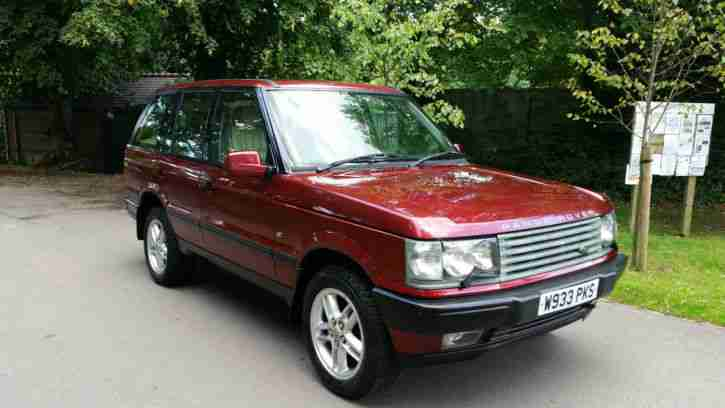car: (118, 69, 633, 407)
